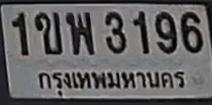1: (10, 11, 26, 55), (132, 10, 147, 53)
3: (104, 11, 125, 53)
6: (180, 11, 202, 52)
9: (154, 11, 176, 53)
A02: (34, 11, 61, 54)
A30: (65, 11, 93, 54)
BKK: (35, 64, 186, 97)
